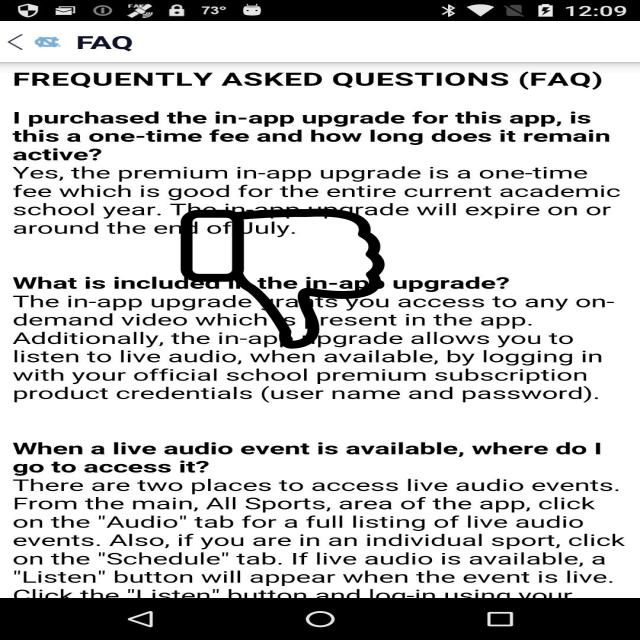obstruction: (178, 208, 388, 348)
